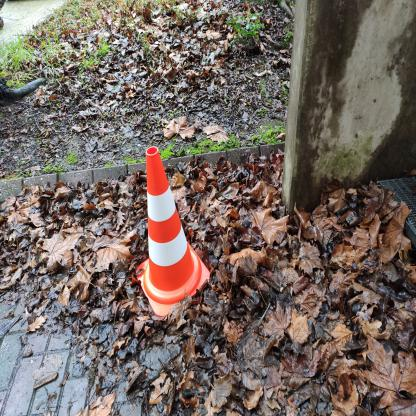Cones_big: (136, 147, 214, 319)
